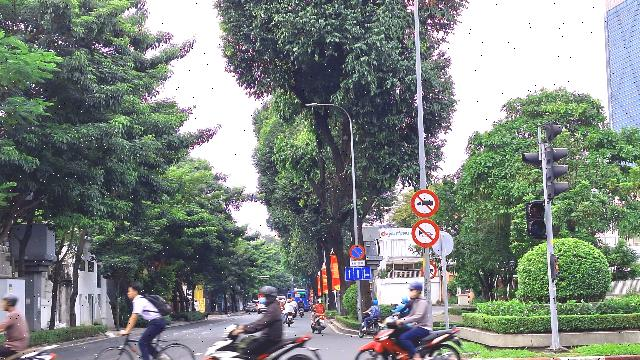cam-bop-coi: (410, 219, 440, 248)
cam-do-xe: (349, 244, 365, 260)
